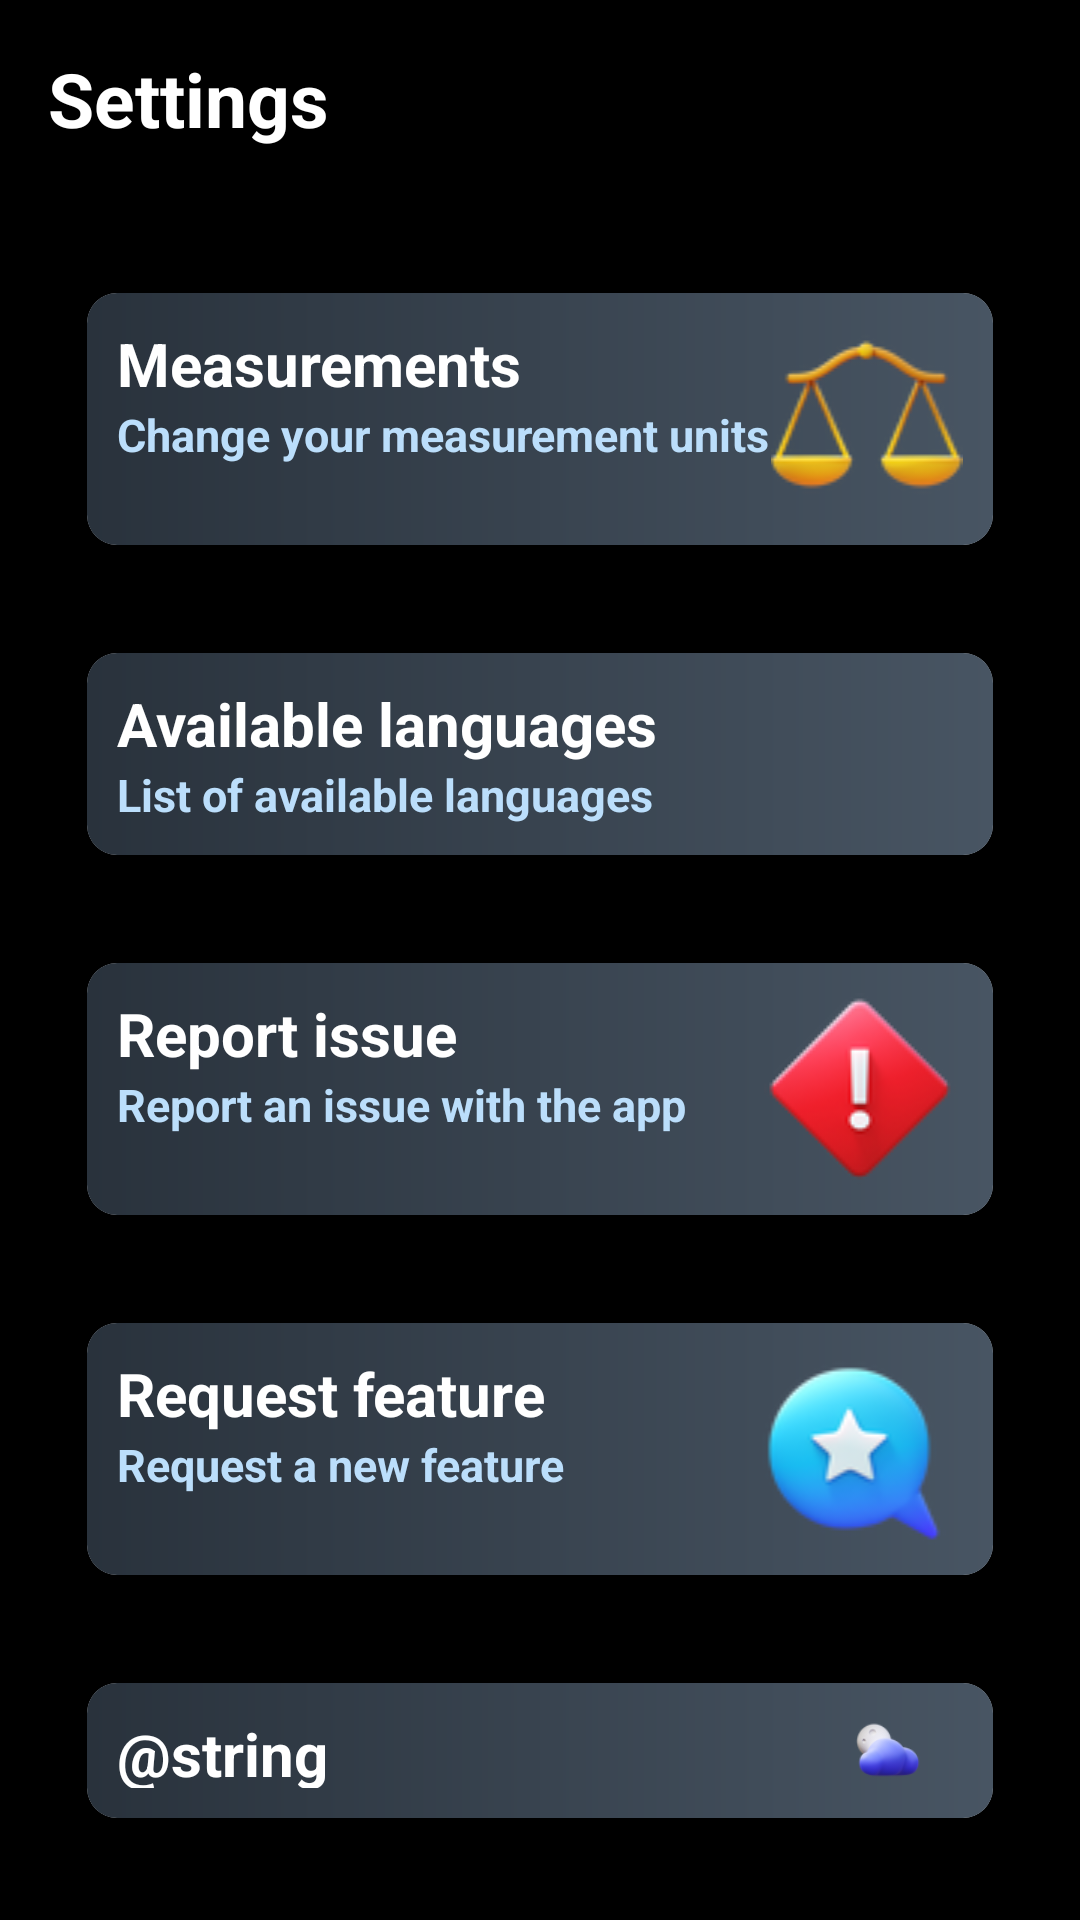

Icons on this 1080w x 1920h Android screen, each with its box as (x1, y1, x2, y2):
danger: (769, 999, 950, 1177)
feedback: (768, 1367, 939, 1540)
scales: (771, 340, 963, 489)
